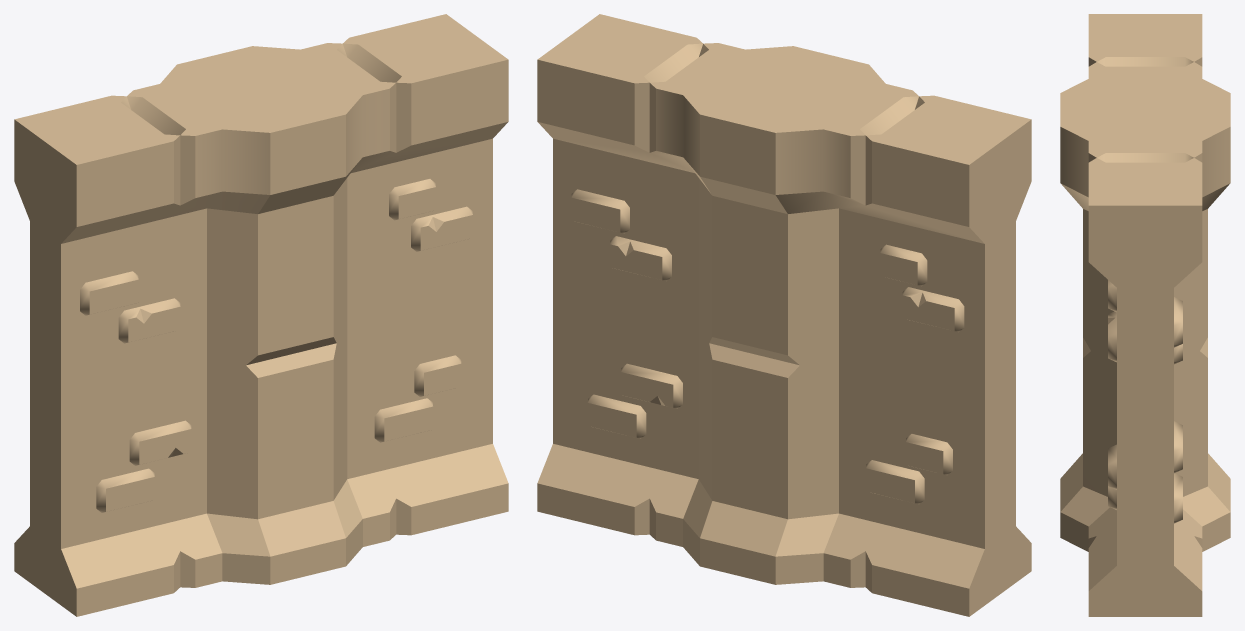
The model's file is wall_pillar.glb.
3 views of the same model, side by side, from view 1: azimuth 30°, elevation 25°; view 2: azimuth 150°, elevation 25°; view 3: azimuth 270°, elevation 25° (orthographic). The views are drawn at different scales.
Visible parts, largest first — view 1: wall_pillar; view 2: wall_pillar; view 3: wall_pillar.
Part boxes in pixels (x1,y1,x2,y2): wall_pillar: [14, 14, 508, 616]; wall_pillar: [537, 14, 1031, 616]; wall_pillar: [1060, 14, 1230, 616].
Size of the model in its own units: 4 by 4 by 1.5.
